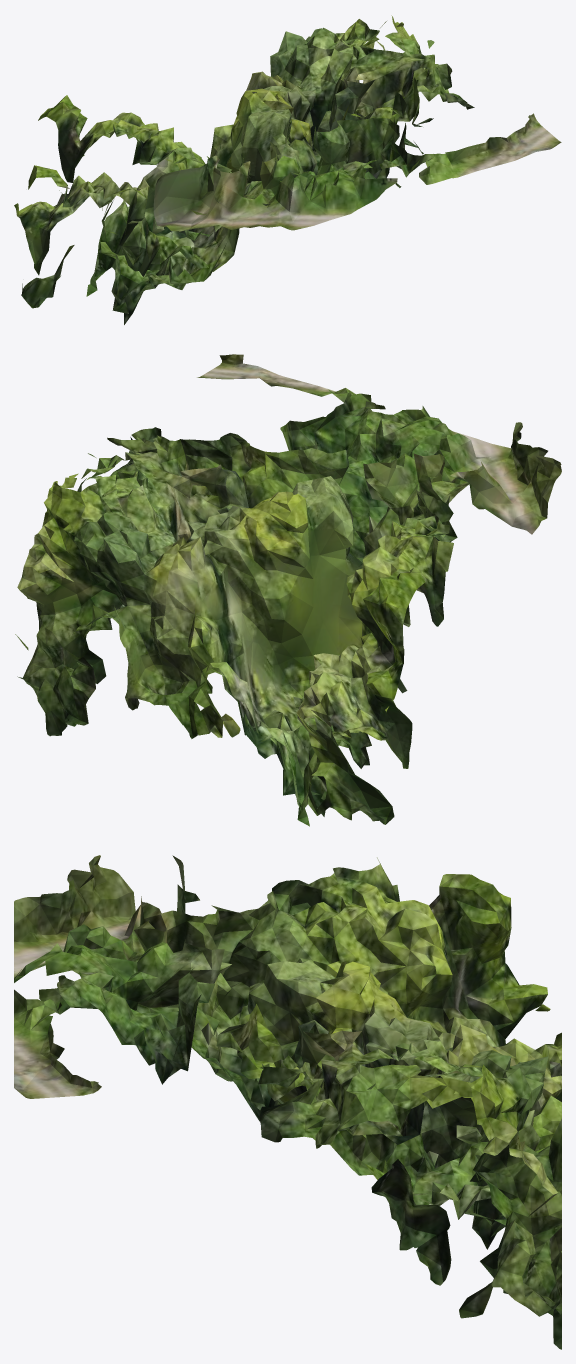
3 renders of one model, top to bottom at view 1: azimuth 30°, elevation 25°; view 2: azimuth 150°, elevation 25°; view 3: azimuth 270°, elevation 25°, orthographic. The views are drawn at different scales.
Size of the model in its own units: 52.22 by 35.8 by 52.22.
Materials: 6 (6 with a texture image).
